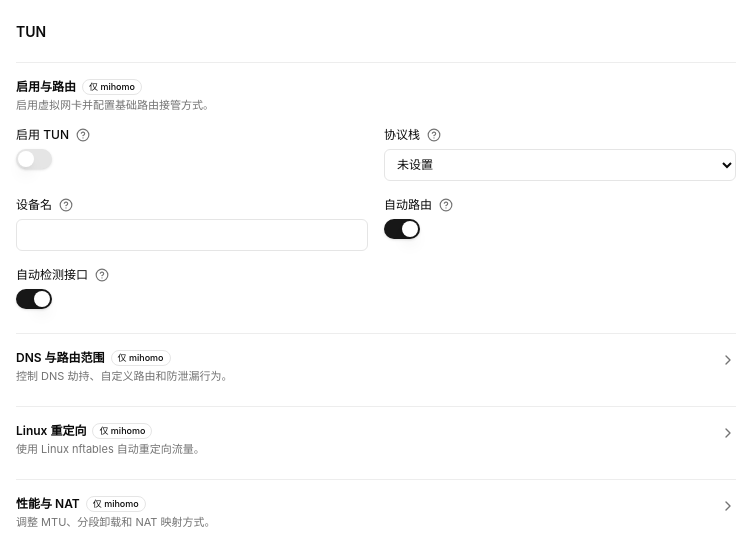
Test: migrated editor UX › provides Chinese field help with YAML metadata
Hover over the button named "查看协议栈说明" at coordinates (434, 135), box x1=426 y1=127 x2=442 y2=143
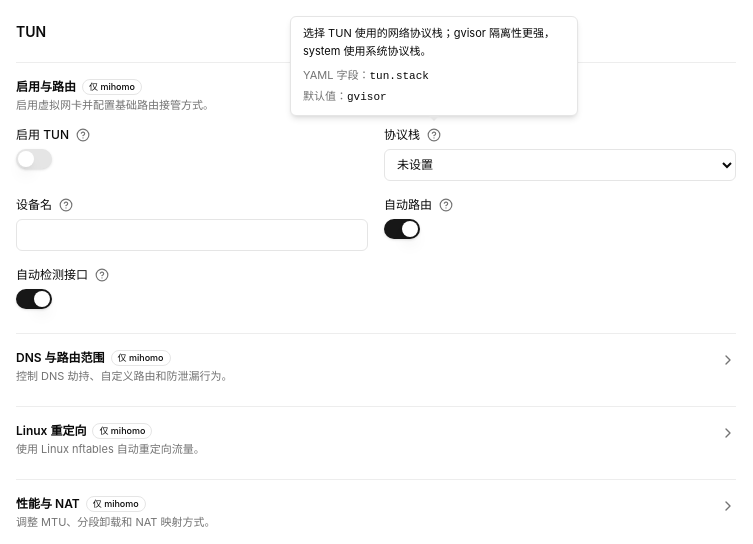
expect the tooltip shows "选择 TUN 使用的网络协议栈": met, box x1=303 y1=26 x2=555 y2=58
expect the tooltip shows "YAML 字段：tun.stack": met, box x1=290 y1=16 x2=578 y2=116
expect the tooltip shows "默认值：gvisor": met, box x1=290 y1=16 x2=578 y2=116
